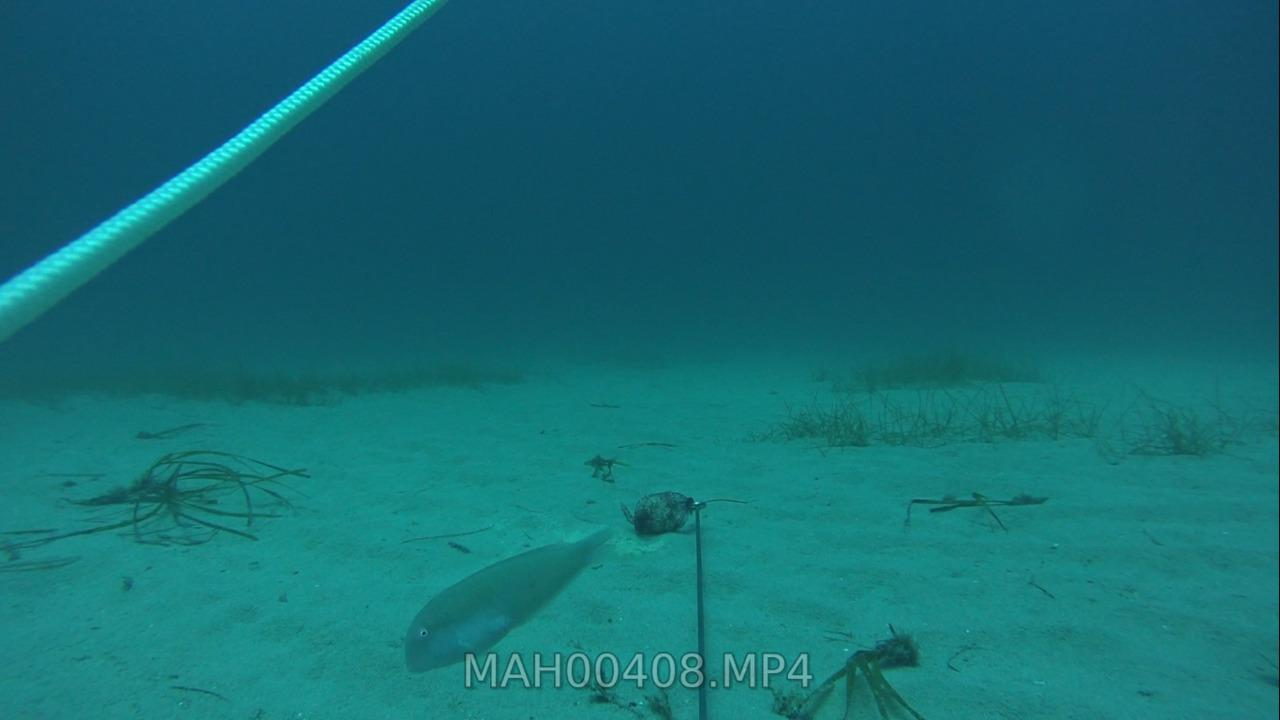raor: (398, 525, 617, 677)
